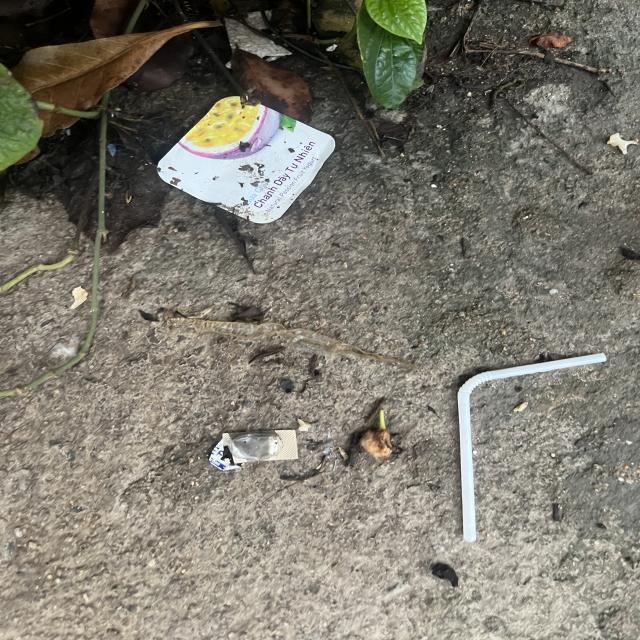drinking straw: (457, 350, 609, 545)
lid: (156, 95, 338, 224)
